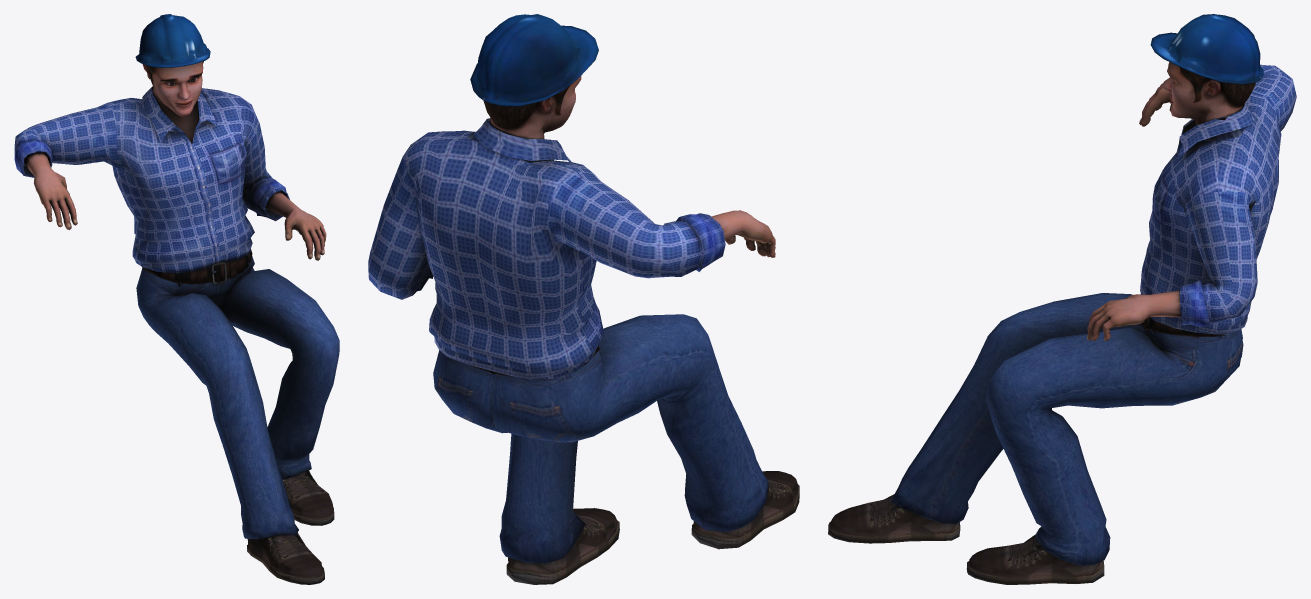
File: SWRK01_02_02.FBX
The picture shows the model from 3 angles, left to right: view 1: azimuth 30°, elevation 25°; view 2: azimuth 150°, elevation 25°; view 3: azimuth 270°, elevation 25°; orthographic projection. The views are drawn at different scales.
Visible parts, largest first — view 1: SWRK01_02_02; view 2: SWRK01_02_02; view 3: SWRK01_02_02.
Boxes of the visible parts, box(x1,y1,x2,y2) form: SWRK01_02_02: box(14, 14, 339, 584); SWRK01_02_02: box(368, 14, 799, 584); SWRK01_02_02: box(828, 14, 1296, 584).
Bounding box in the file's own units: 33.89 × 55.5 × 44.69.
Materials: 1 (1 with a texture image).
